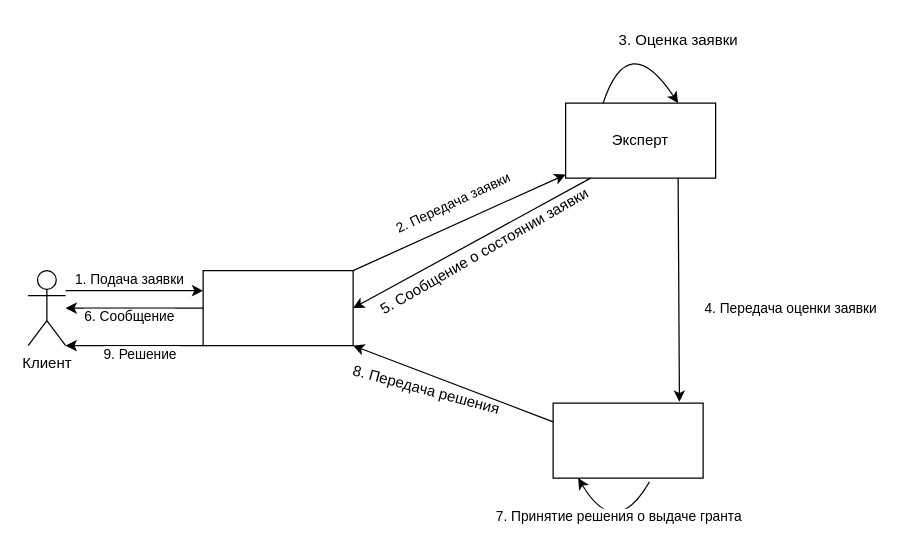
This 899x546 diagram has some shape labels left out. Here are the shapes that lost their labels. From the top down, the box of each, then its label:
(202, 269, 353, 346): Сервер системы
(552, 402, 703, 478): Держатель фонда
